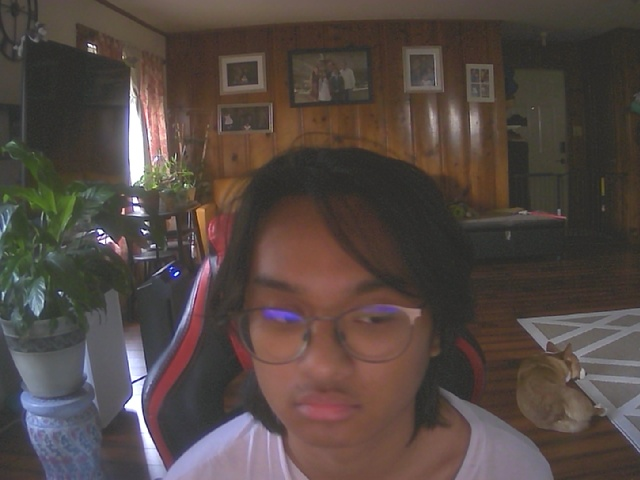neutral: (225, 155, 458, 454)
